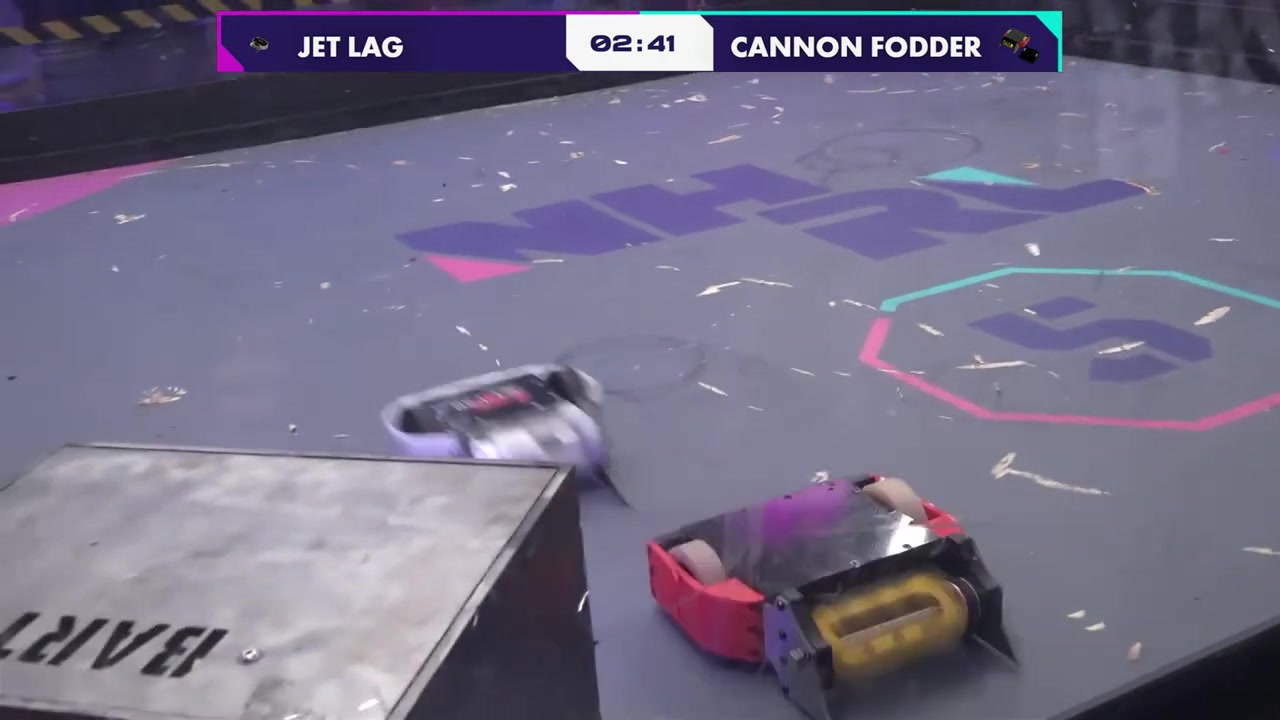combatbot: (645, 472, 1016, 717), (380, 360, 634, 462)
housebot: (0, 437, 603, 720)
